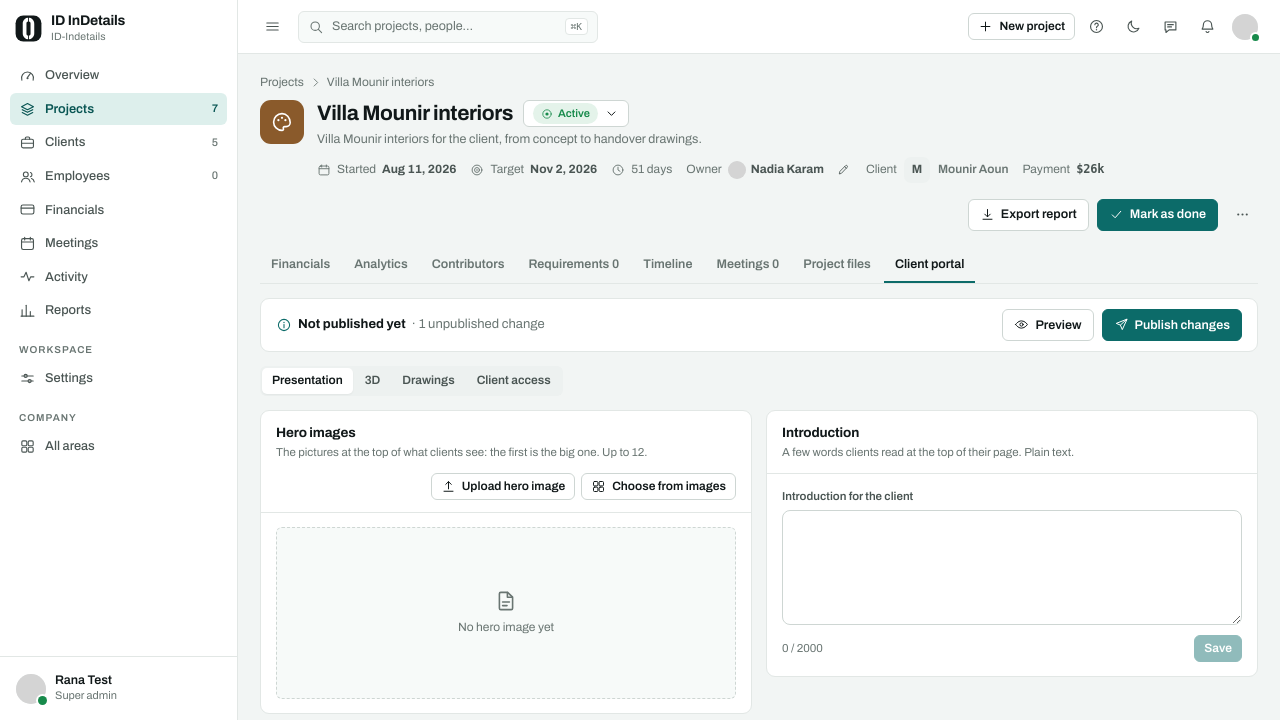
the files chosen for the client › lets the super admin publish
Click the button "Publish changes": x=1172, y=325 [1102,309,1242,341]
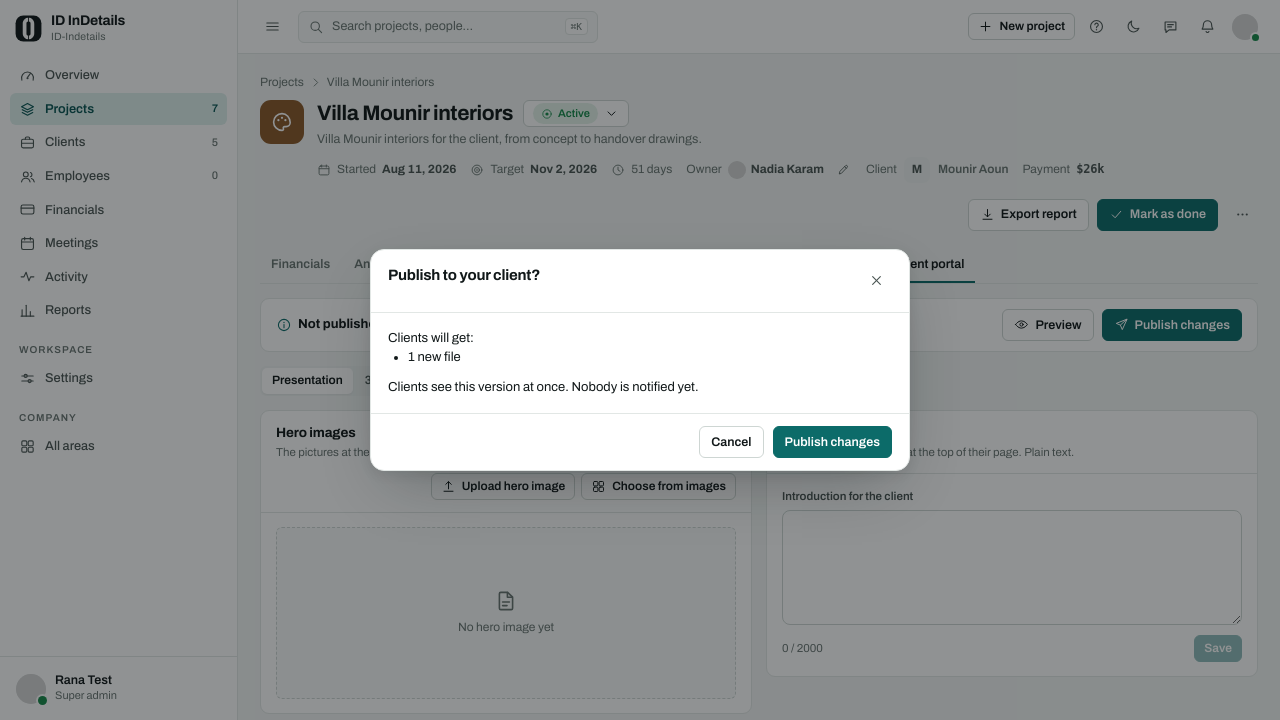
Click the button "Publish changes": x=832, y=442 [772,426,892,458]
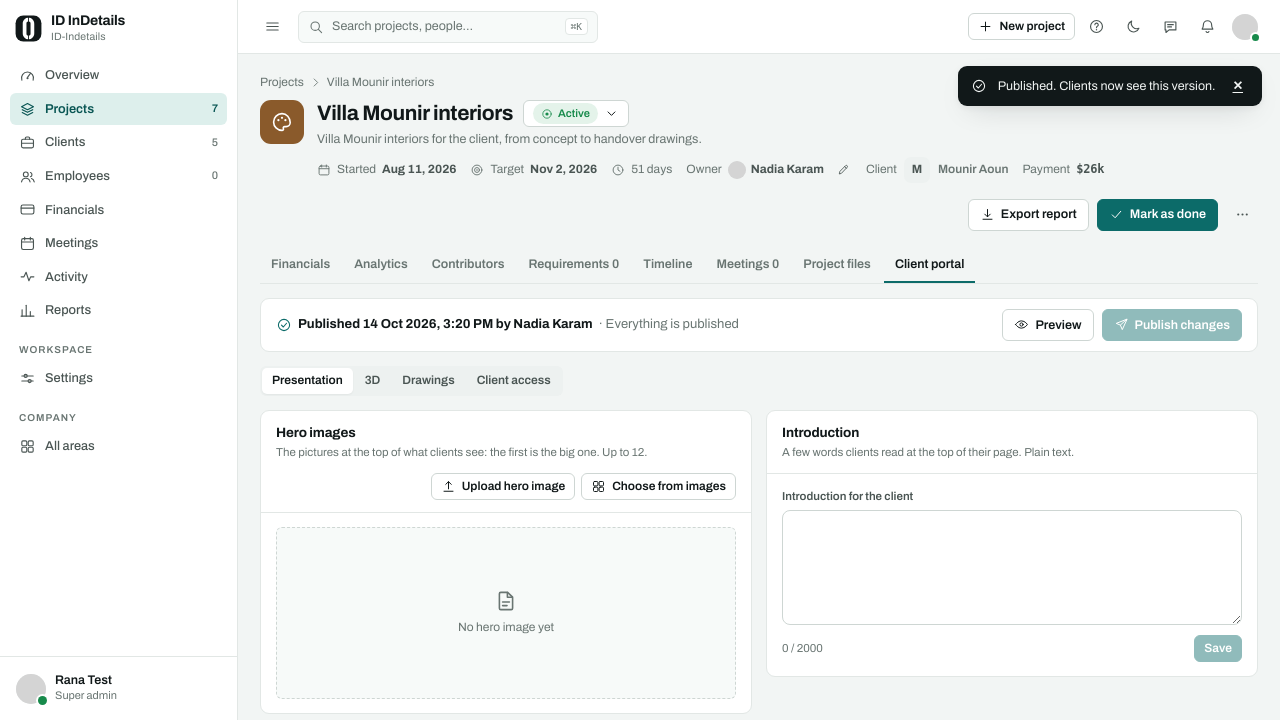
Expected: the text "Published. Clients now see this version." is shown, [998,77,1216,95]
Expected: the text "· Everything is published" is shown, [599,315,739,334]
